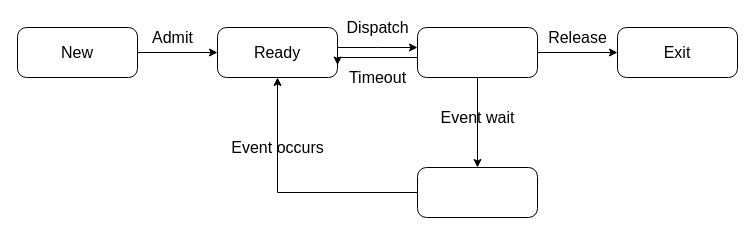
Image size: 755x235. Some labels were removed from this diagram. The centre of each missing label's shape, as x and y in pixels:
Block: the point at 477,192
Running: the point at 477,52
